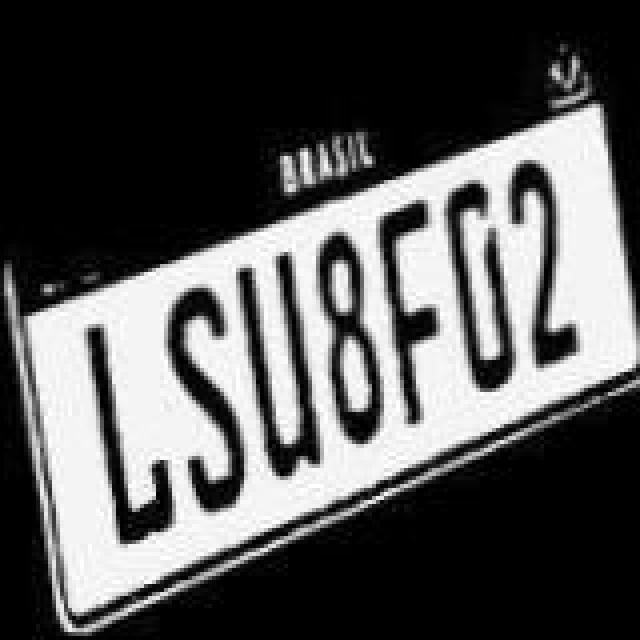2: (498, 144, 582, 368)
8: (306, 232, 386, 448)
D: (432, 176, 520, 396)
F: (360, 192, 444, 436)
L: (70, 308, 182, 544)
S: (158, 288, 246, 520)
U: (220, 252, 332, 480)
